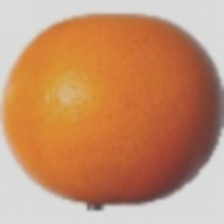grapes: (13, 33, 190, 178)
